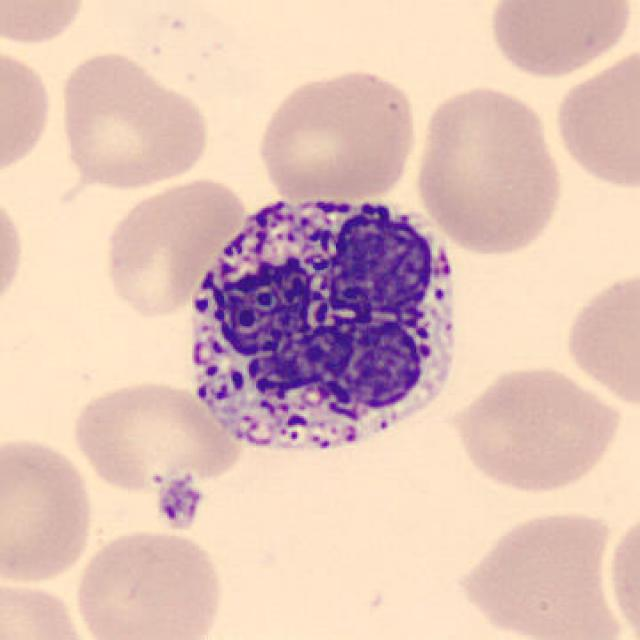Basophil: (169, 176, 475, 476)
Platelets: (153, 476, 204, 531)
RBC: (409, 81, 569, 259), (446, 360, 626, 497), (453, 504, 631, 640), (252, 65, 420, 205), (54, 48, 214, 192), (99, 173, 249, 321), (66, 376, 245, 494), (71, 523, 227, 640), (0, 430, 98, 587), (551, 42, 640, 194), (484, 0, 636, 81), (560, 264, 640, 412), (0, 42, 57, 180), (0, 575, 98, 640), (604, 504, 640, 640), (0, 0, 89, 49), (0, 183, 28, 319)
